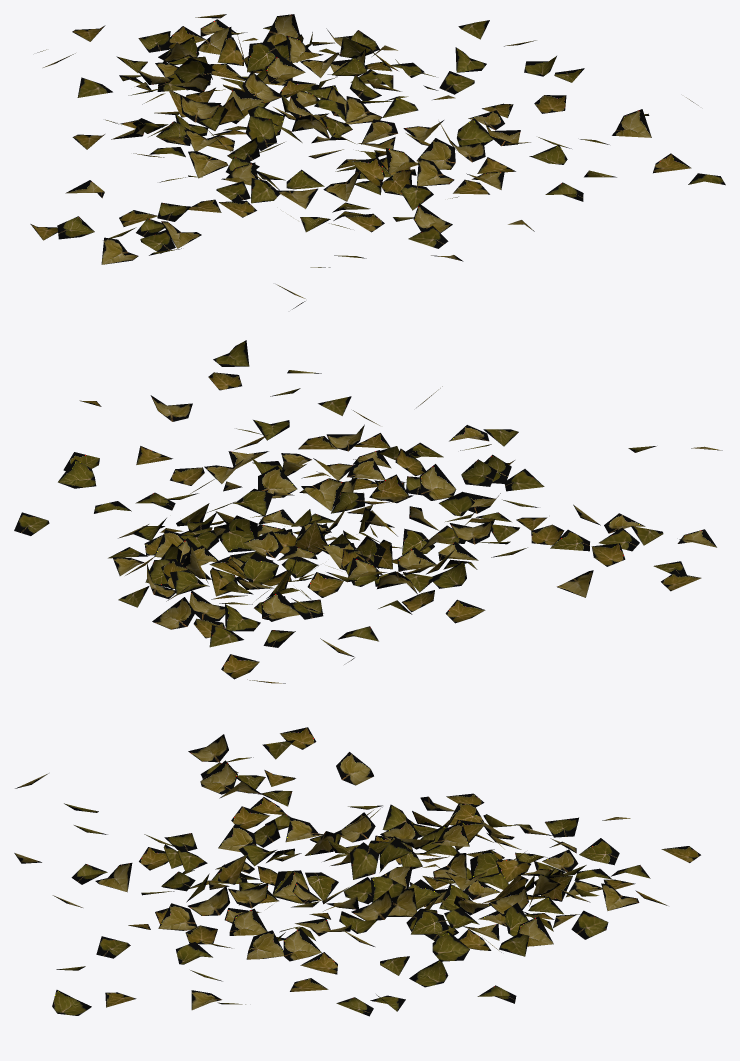
File: SM_LeavesPile_01a.gltf
The picture shows the model from 3 angles, top to bottom: view 1: azimuth 30°, elevation 25°; view 2: azimuth 150°, elevation 25°; view 3: azimuth 270°, elevation 25°; orthographic projection. The views are drawn at different scales.
Visible parts, largest first — view 1: SM_LeavesPile_01a_LOD0; view 2: SM_LeavesPile_01a_LOD0; view 3: SM_LeavesPile_01a_LOD0.
Part boxes in pixels (bbox=[...]): SM_LeavesPile_01a_LOD0: bbox=[30, 14, 725, 309]; SM_LeavesPile_01a_LOD0: bbox=[14, 340, 722, 683]; SM_LeavesPile_01a_LOD0: bbox=[14, 727, 700, 1016].
Size of what is drawn, in the model's own units: 4.36 by 0.2939 by 4.25.
Materials: 1 (1 with a texture image).
